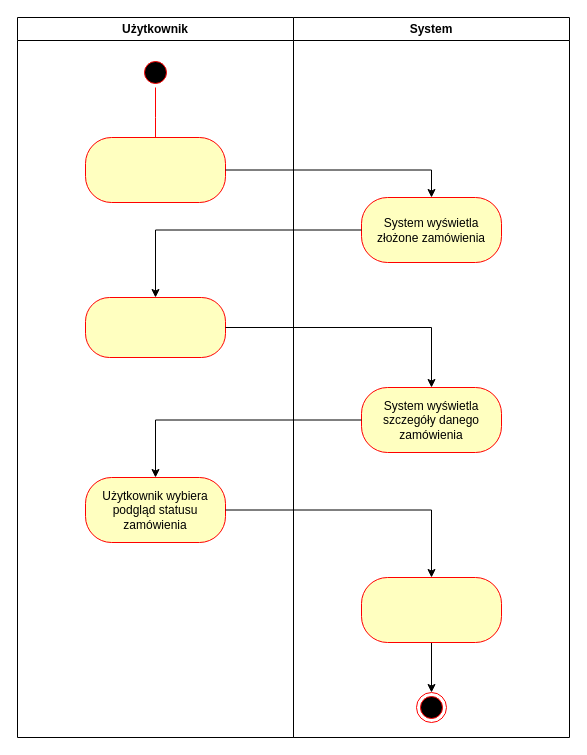
The diagram is 587 pixels wide and 755 high, and some of its shapes have lost their labels. The centre of each missing label's shape, as x and y in pixels:
"System wyświetla status zamówienia" belongs at [431,609].
"Użytkownik przechodzi do sekcji zamówień" belongs at [155,169].
"Użytkownik wybiera szczegóły danego zamówienia" belongs at [155,327].
